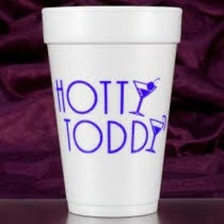paper_cup: (35, 1, 187, 222)
